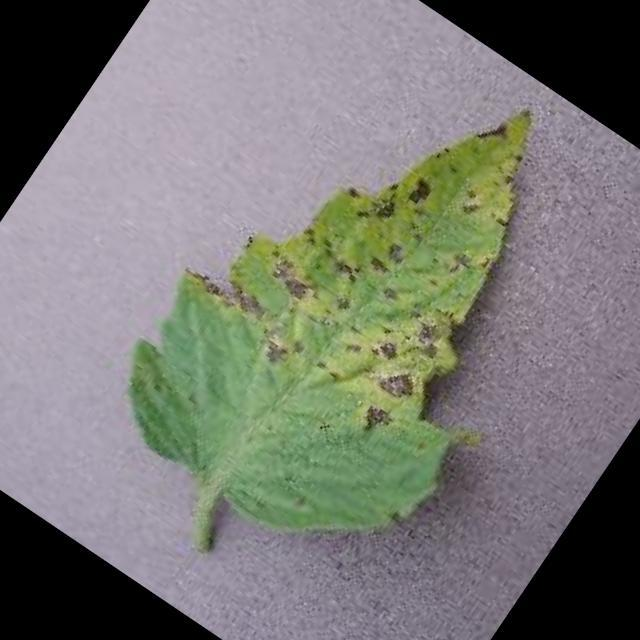Tomato Septoria spot leaf: (87, 0, 640, 599)
